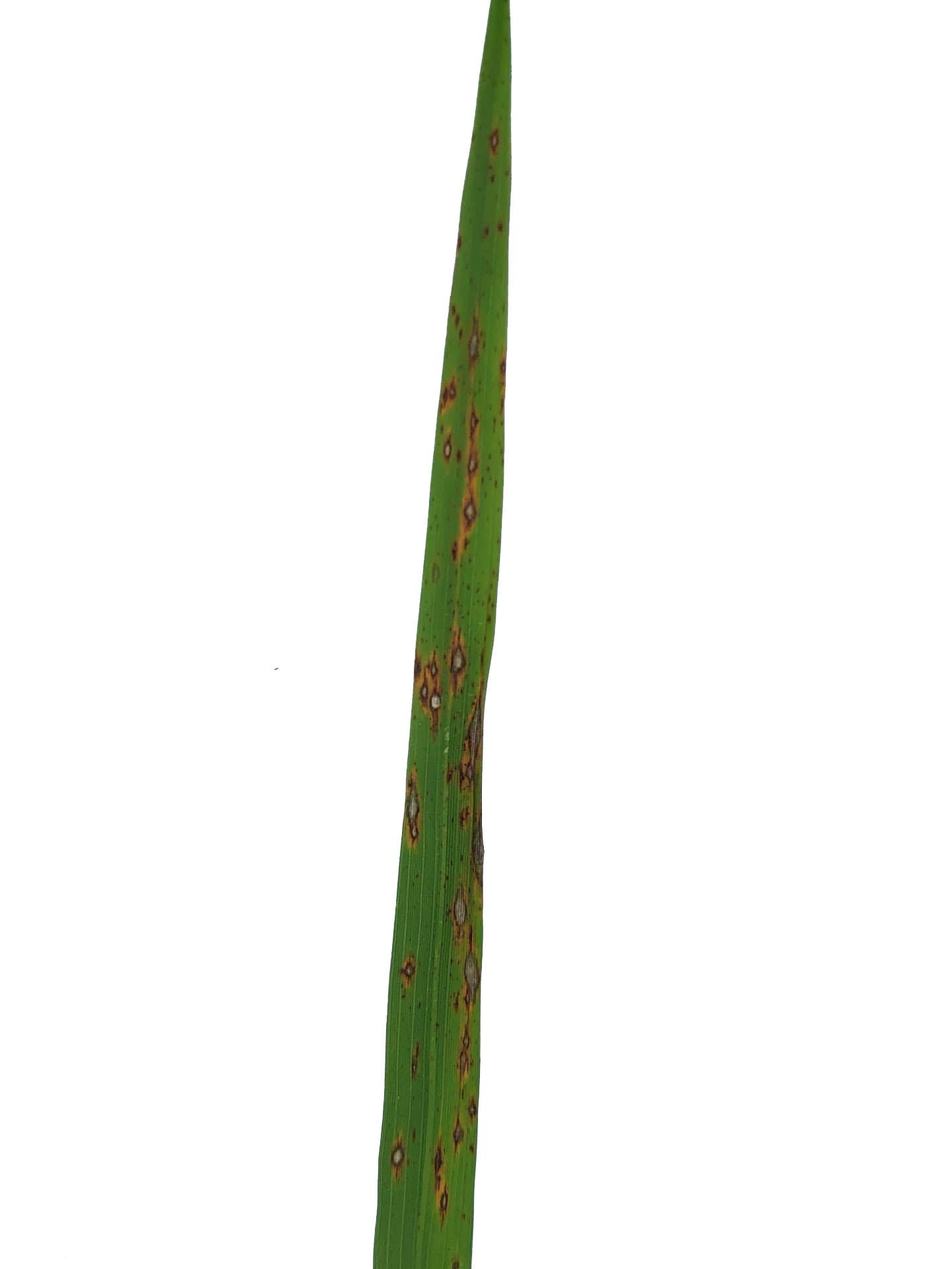Rice blast: (444, 681, 500, 790), (468, 407, 481, 548), (418, 649, 444, 717), (457, 1017, 476, 1083), (444, 630, 467, 684), (464, 932, 478, 1020), (451, 874, 470, 937), (387, 1136, 409, 1182), (473, 800, 483, 897), (464, 315, 484, 361), (439, 432, 459, 472), (428, 1139, 446, 1175), (413, 1041, 426, 1089), (438, 1182, 450, 1221), (457, 801, 471, 834), (453, 1118, 465, 1153), (488, 125, 500, 154), (449, 379, 459, 412)
